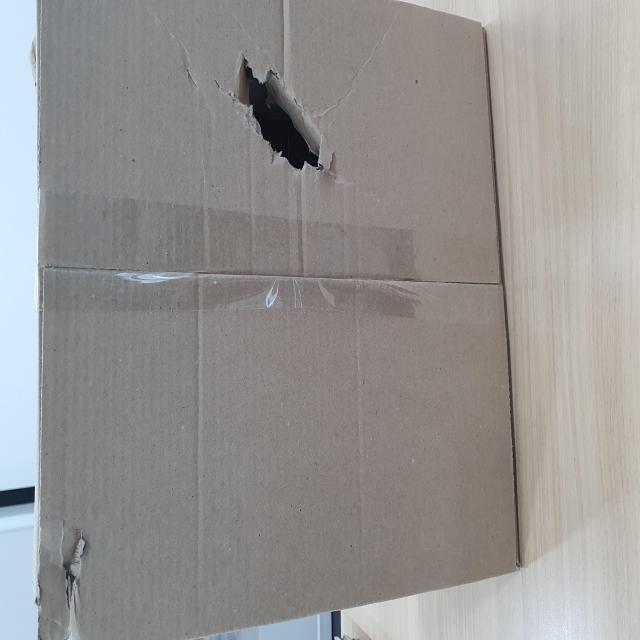damaged: (256, 406, 329, 558)
